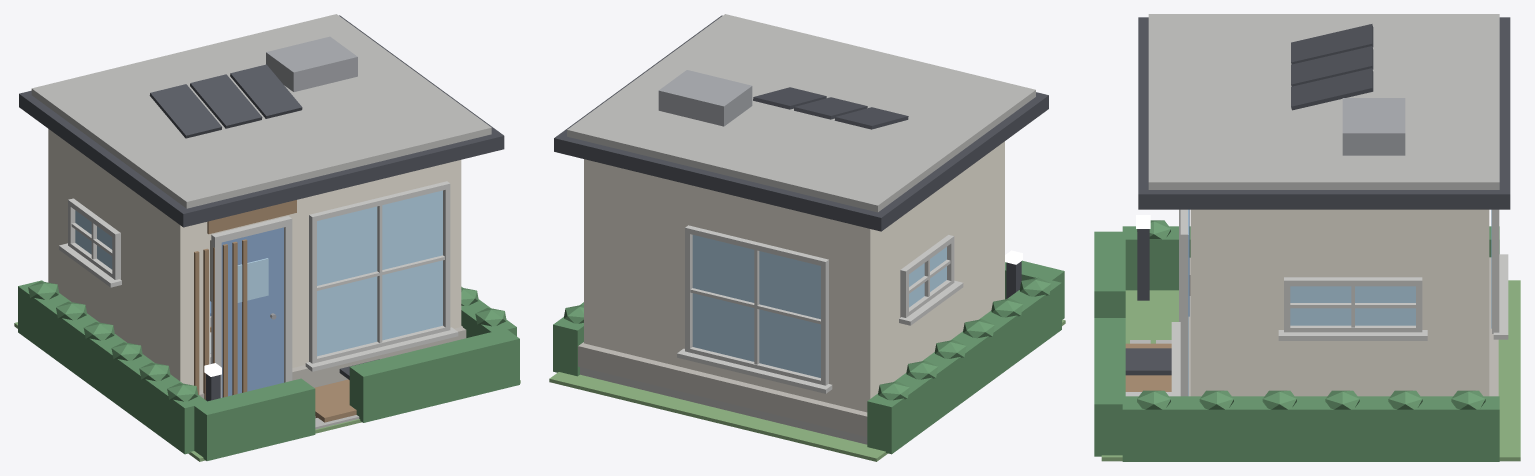
Rendered from casa_moderna.glb.
3 views of the same model, side by side, from view 1: azimuth 30°, elevation 25°; view 2: azimuth 150°, elevation 25°; view 3: azimuth 270°, elevation 25° (orthographic). The views are drawn at different scales.
Visible parts, largest first — view 1: Techo, Pared_del_fachada, Valla, Base, Pared_del, Techo_Detalle, Detalle; view 2: Base, Techo, Valla, Detalle, Techo_Detalle; view 3: Techo, Base, Valla, Techo_Detalle, Detalle, Pared_del_fachada, Pared_del.
Boxes of the visible parts, left/top/right/bottom form: Techo: left=19, top=14, right=504, bottom=227; Pared_del_fachada: left=190, top=162, right=466, bottom=399; Valla: left=18, top=280, right=519, bottom=460; Base: left=14, top=129, right=520, bottom=461; Pared_del: left=211, top=216, right=292, bottom=397; Techo_Detalle: left=149, top=64, right=302, bottom=138; Detalle: left=28, top=281, right=506, bottom=401; Base: left=549, top=141, right=1065, bottom=461; Techo: left=554, top=14, right=1048, bottom=231; Valla: left=553, top=260, right=1064, bottom=454; Detalle: left=564, top=277, right=1051, bottom=400; Techo_Detalle: left=753, top=87, right=908, bottom=129; Techo: left=1138, top=14, right=1510, bottom=209; Base: left=1101, top=209, right=1520, bottom=461; Valla: left=1094, top=226, right=1499, bottom=461; Techo_Detalle: left=1291, top=24, right=1373, bottom=110; Detalle: left=1125, top=220, right=1485, bottom=409; Pared_del_fachada: left=1171, top=209, right=1190, bottom=396; Pared_del: left=1179, top=209, right=1189, bottom=321.
Size of the model in its own units: 4.18 by 3.15 by 4.07.
